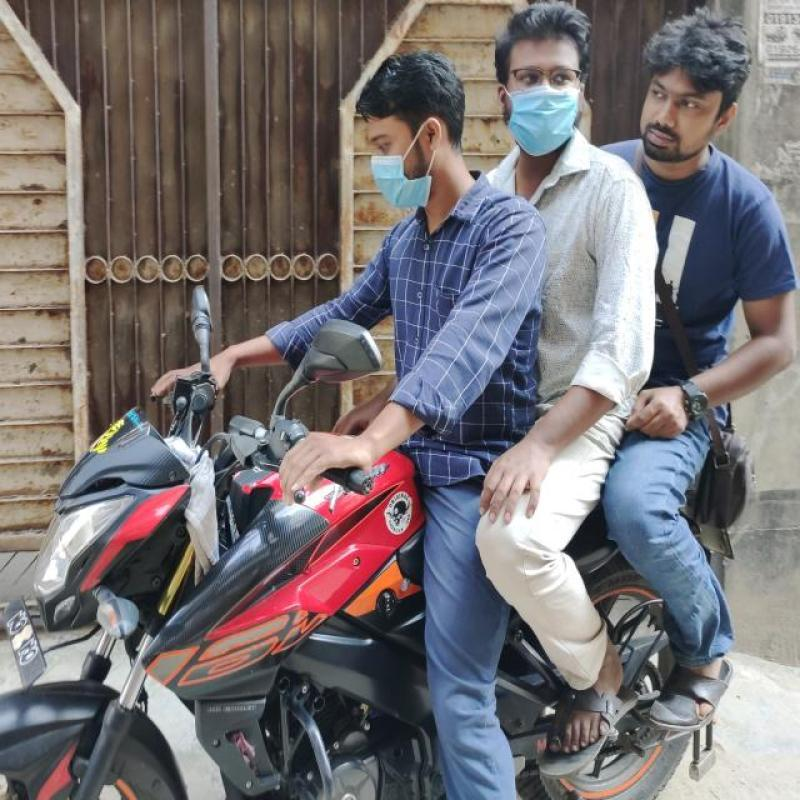nohelmet: (633, 3, 763, 167), (486, 0, 605, 162), (349, 49, 465, 212)
